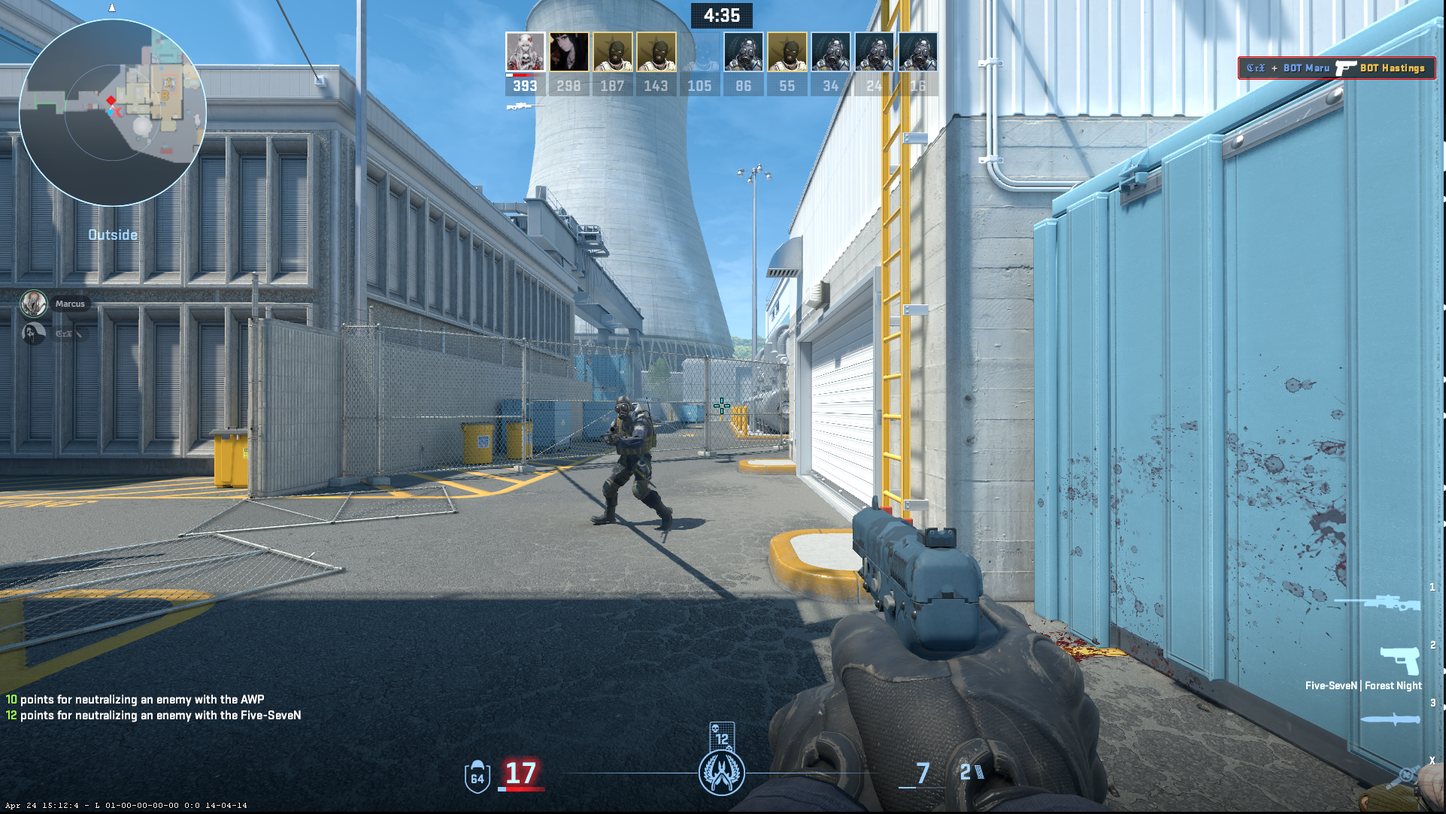CT: (594, 395, 671, 533)
